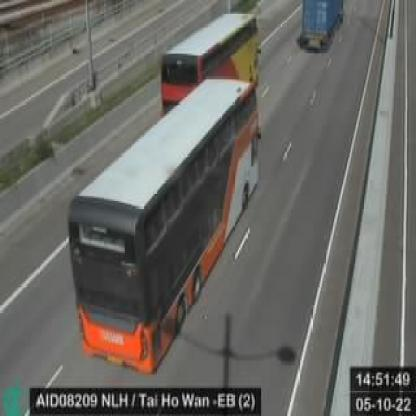Bus: (65, 80, 259, 369), (160, 14, 253, 119)
Truck: (298, 2, 342, 48)
